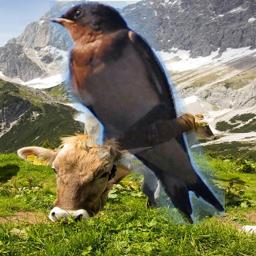Swallow: (50, 1, 225, 225)
